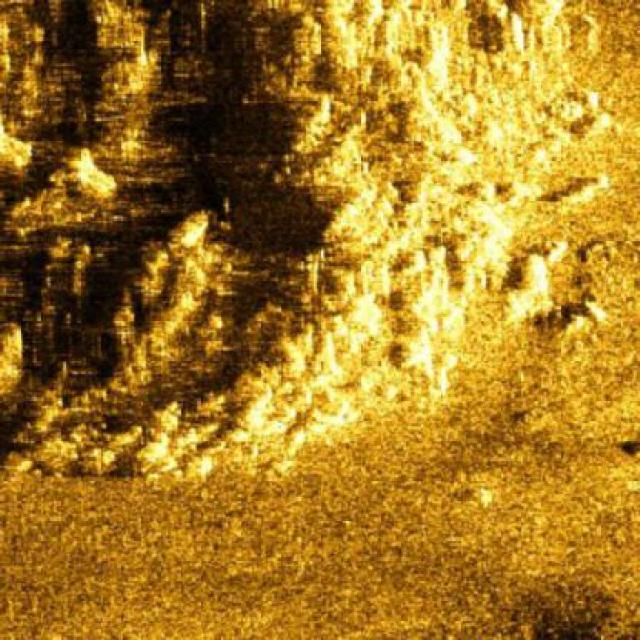bedrock group: (0, 0, 612, 480)
